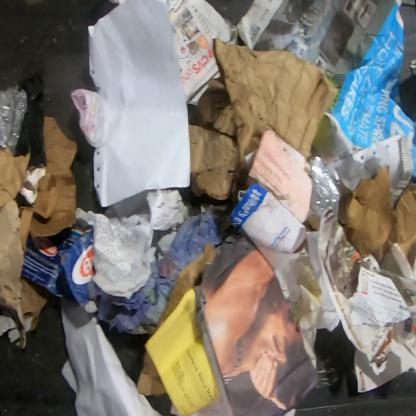cardboard: (338, 165, 415, 271), (20, 113, 78, 253), (21, 227, 97, 307), (153, 242, 217, 336), (136, 351, 167, 396)
rigid_plastic: (308, 156, 342, 221)
soft_plastic: (14, 69, 45, 170), (70, 88, 113, 149), (0, 85, 30, 155)
